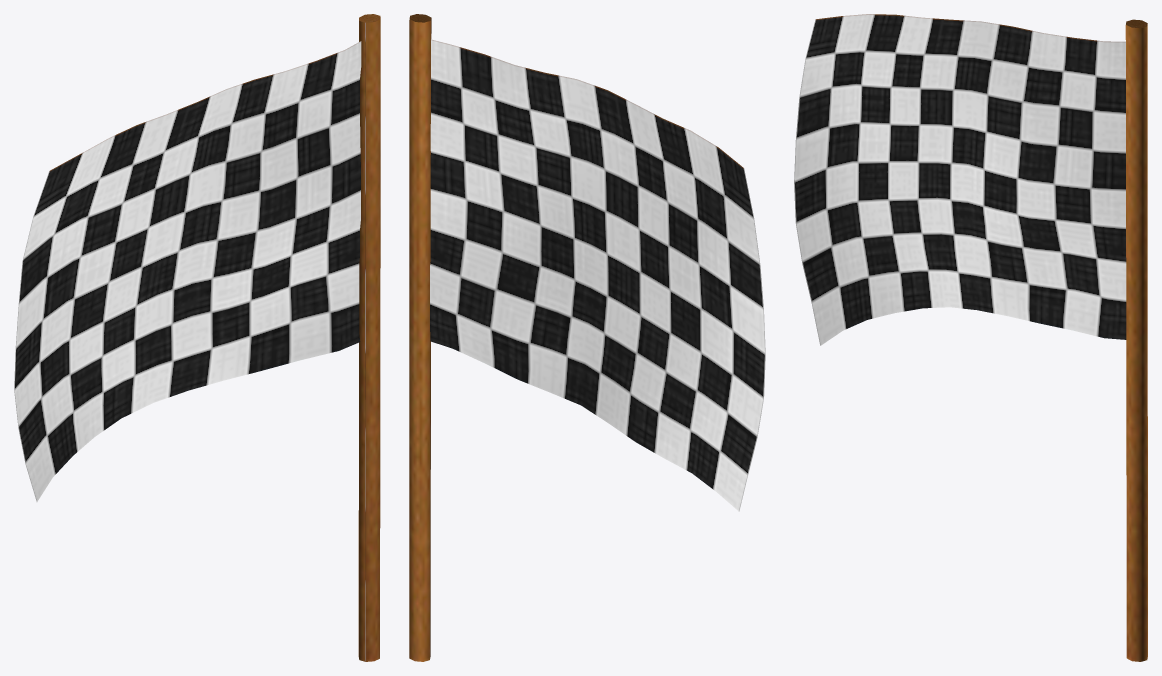
The model's file is Supersides.icn.obj.
3 renders of one model, left to right at view 1: azimuth 30°, elevation 25°; view 2: azimuth 150°, elevation 25°; view 3: azimuth 330°, elevation 25°, orthographic.
Bounding box in the file's own units: 1.59 × 2.7 × 0.1863.
1 material, 1 textured.
